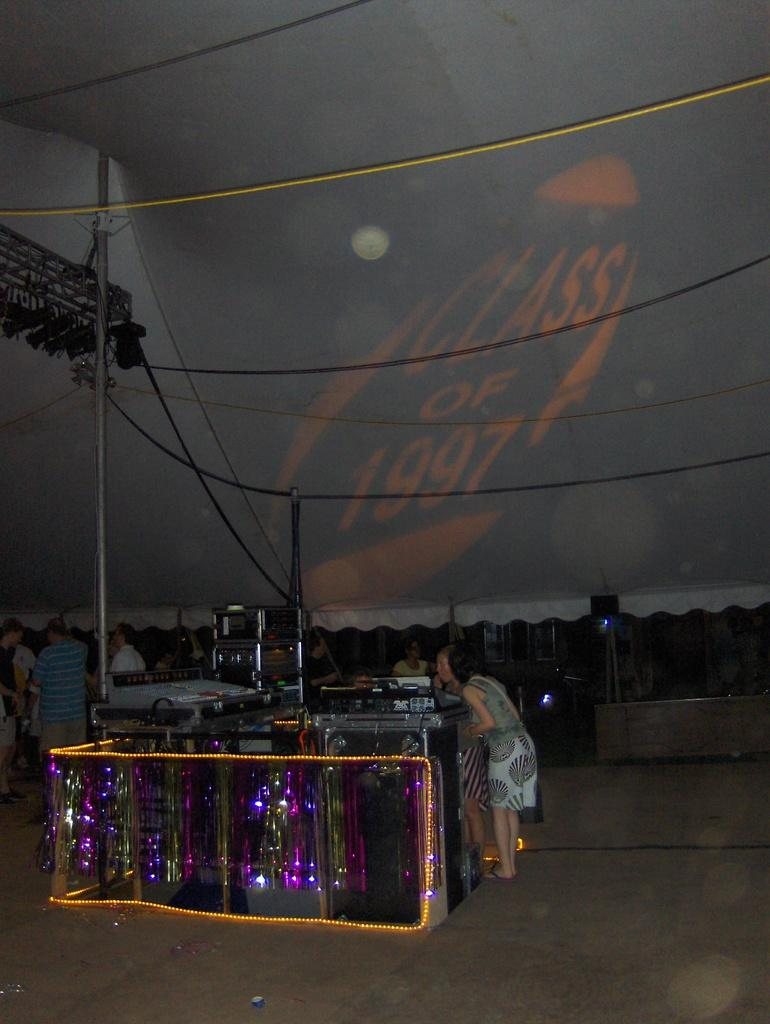Sem Máscara: (434, 651, 450, 681)
